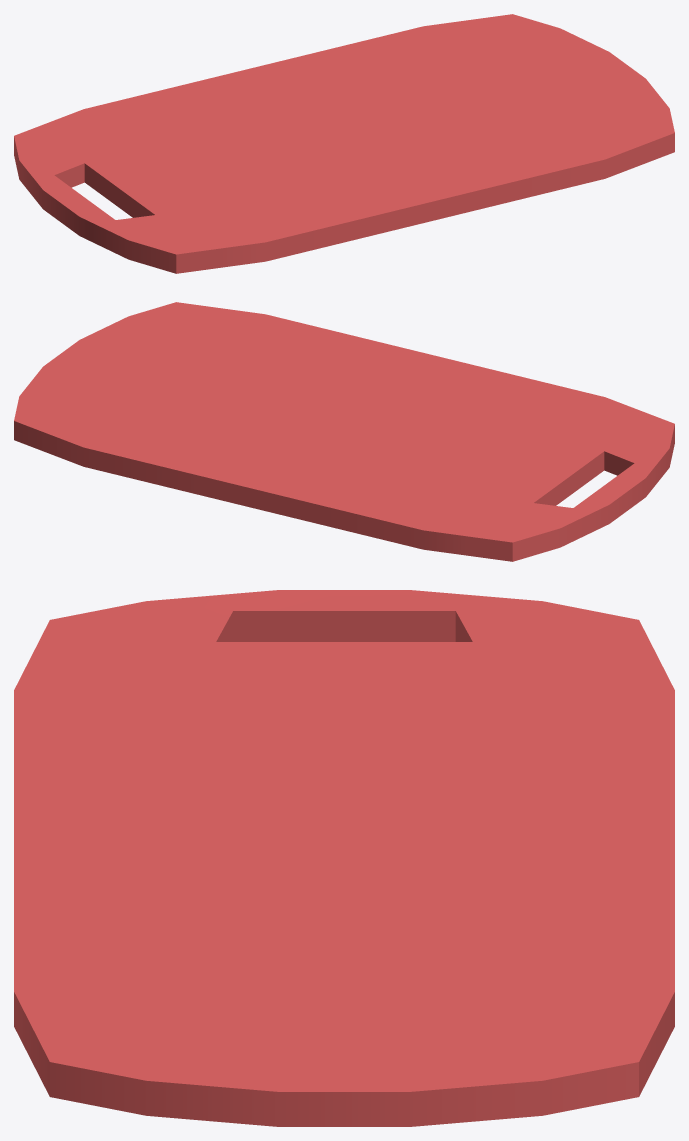
File: Snijjplank.fbx
The picture shows the model from 3 angles, top to bottom: view 1: azimuth 30°, elevation 25°; view 2: azimuth 150°, elevation 25°; view 3: azimuth 270°, elevation 25°; orthographic projection. The views are drawn at different scales.
Parts seen in each view (by area): view 1: pCube1; view 2: pCube1; view 3: pCube1.
Part boxes in pixels (x1,y1,x2,y2): pCube1: (14,14,674,273); pCube1: (14,302,674,561); pCube1: (14,590,674,1126).
Bounding box in the file's own units: 3.12 × 0.1015 × 1.74.
